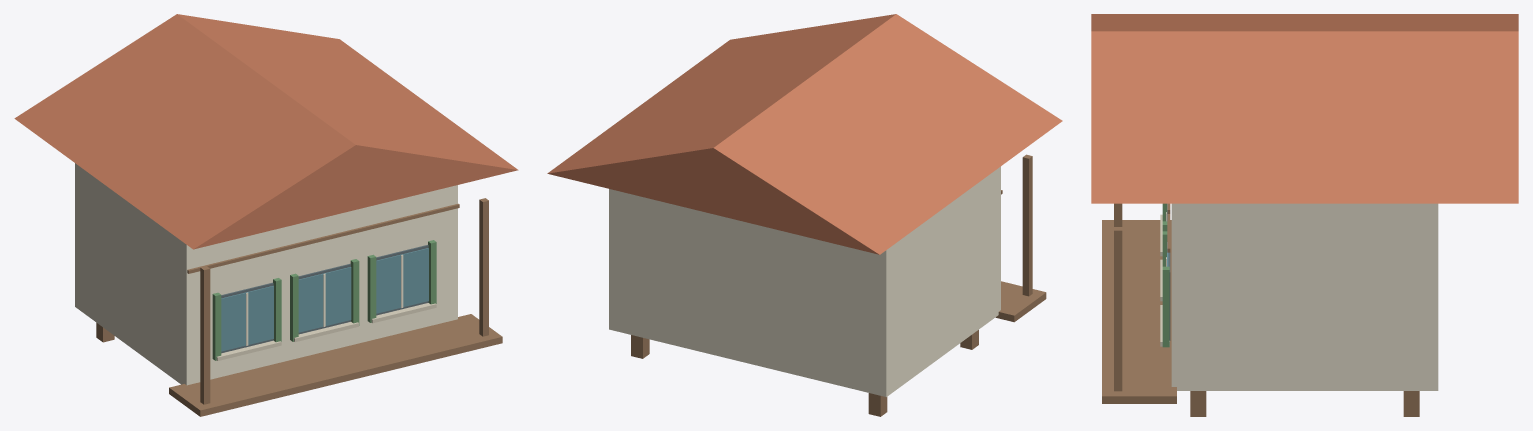
Rendered from deep-veranda.glb.
3 views of the same model, side by side, from view 1: azimuth 30°, elevation 25°; view 2: azimuth 150°, elevation 25°; view 3: azimuth 270°, elevation 25° (orthographic). The views are drawn at different scales.
Size of the model in its own units: 8.4 by 6.5 by 8.
